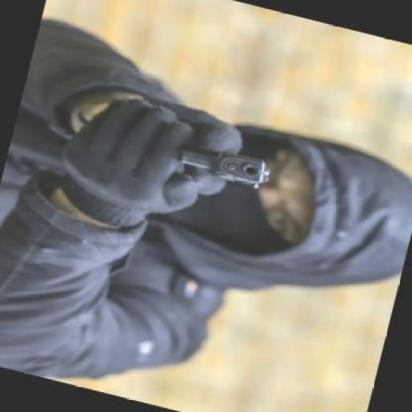Gun: (155, 132, 281, 194)
